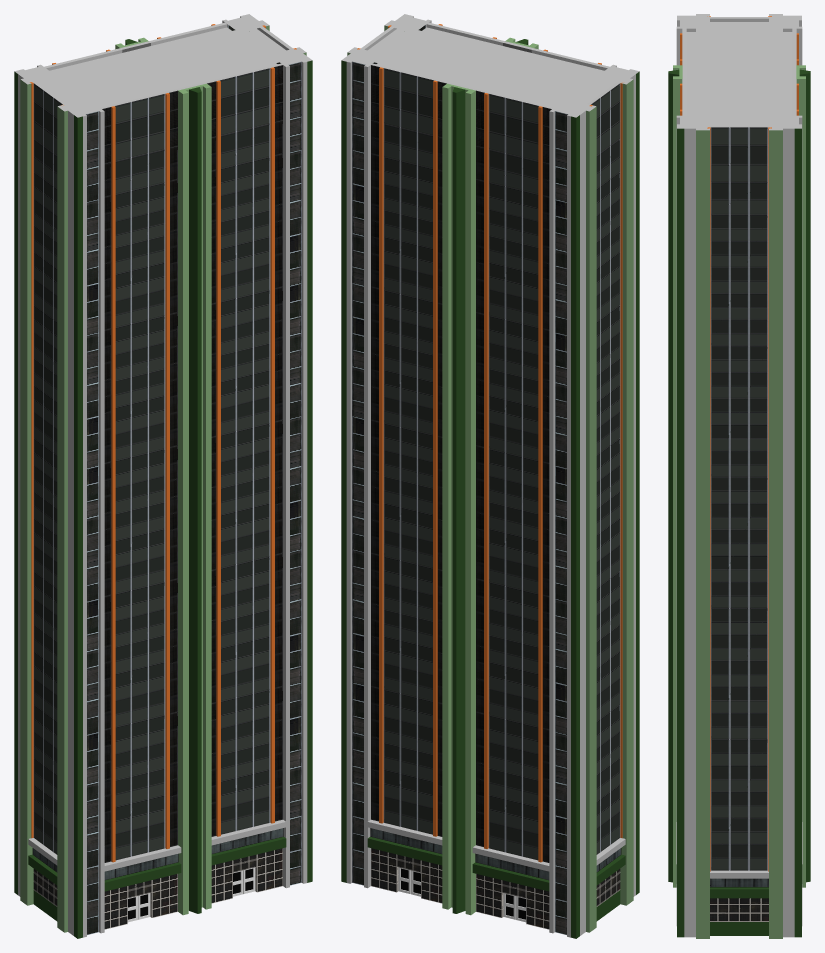
Rendered from Tower-10.fbx.
3 views of the same model, side by side, from view 1: azimuth 30°, elevation 25°; view 2: azimuth 150°, elevation 25°; view 3: azimuth 270°, elevation 25° (orthographic).
Visible parts, largest first — view 1: Building; view 2: Building; view 3: Building.
Part boxes in pixels (box(x1,y1,x2,y2)): Building: box(14, 14, 312, 938); Building: box(341, 14, 639, 938); Building: box(668, 14, 810, 938).
Size of what is drawn, in the model's own units: 22.84 by 74 by 11.8.
